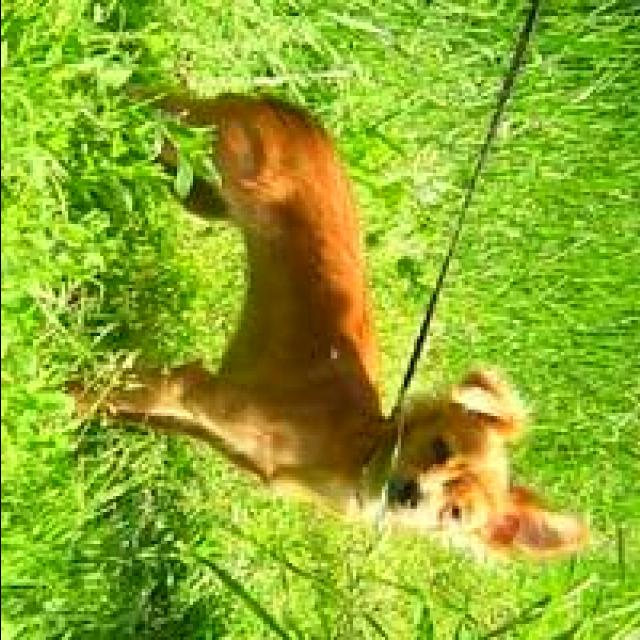toy_terrier: (58, 80, 604, 573)
